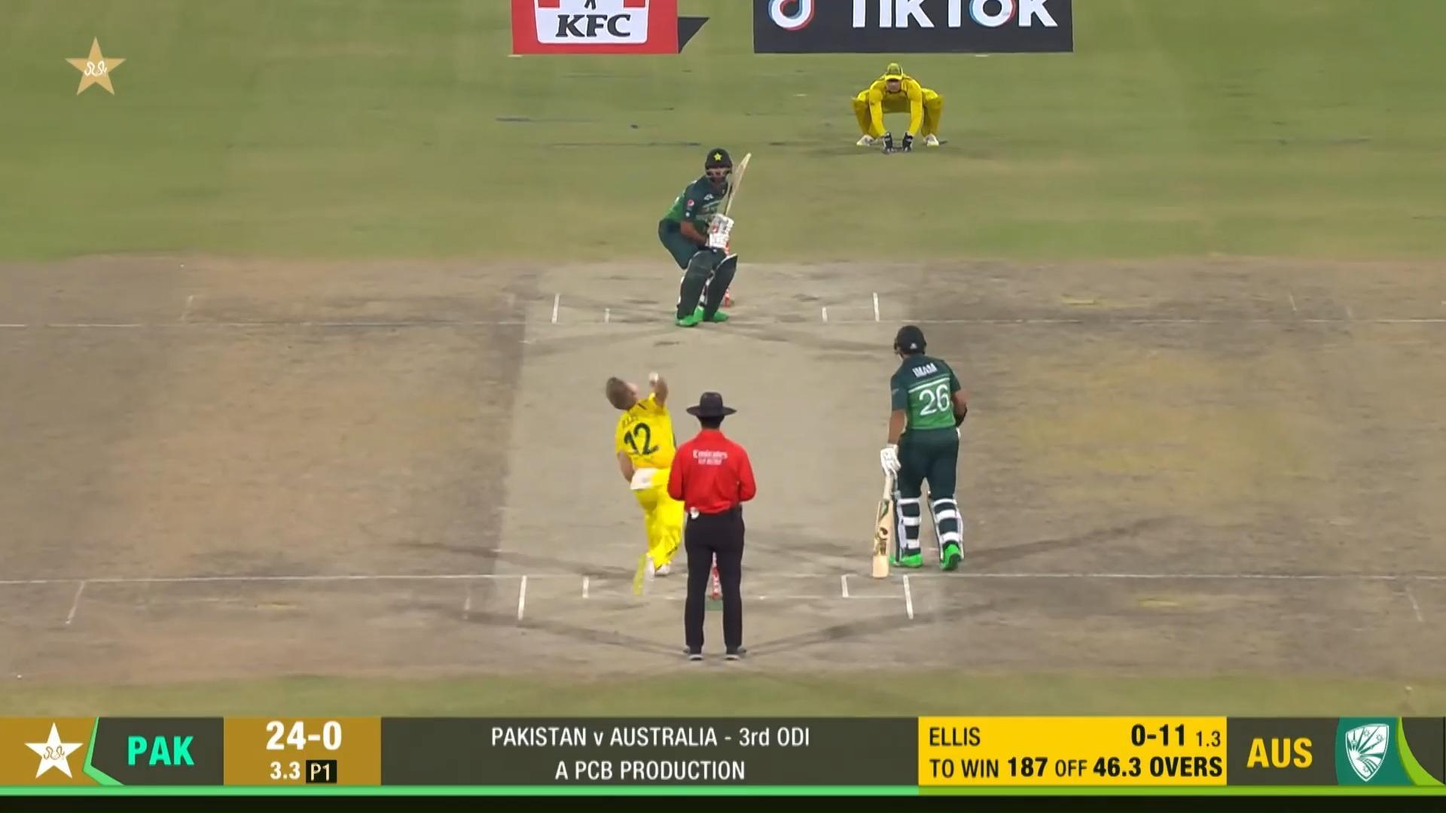BM 1: (658, 147, 753, 327)
BO: (603, 372, 691, 598)
